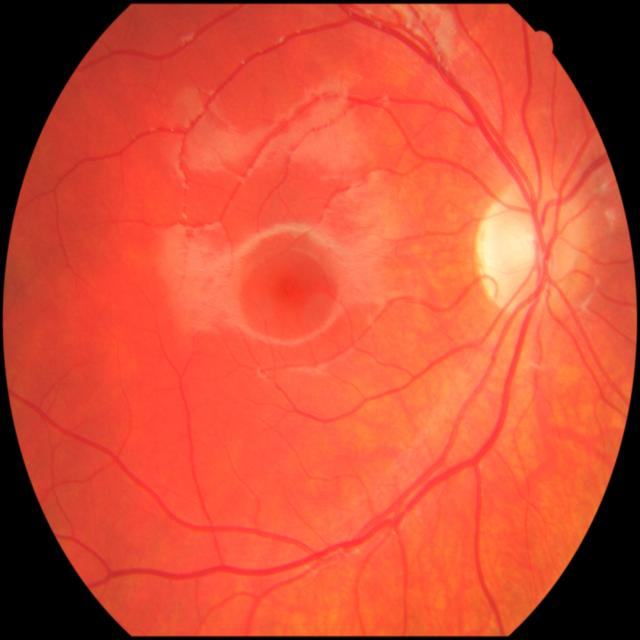OC: (494, 219, 536, 276)
OD: (474, 182, 586, 315)
